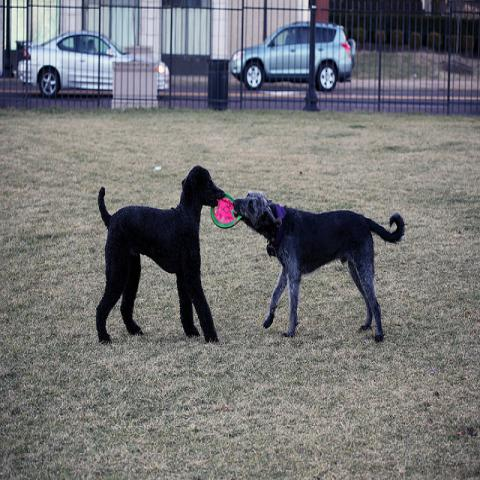car: (16, 31, 172, 91), (231, 23, 356, 92)
